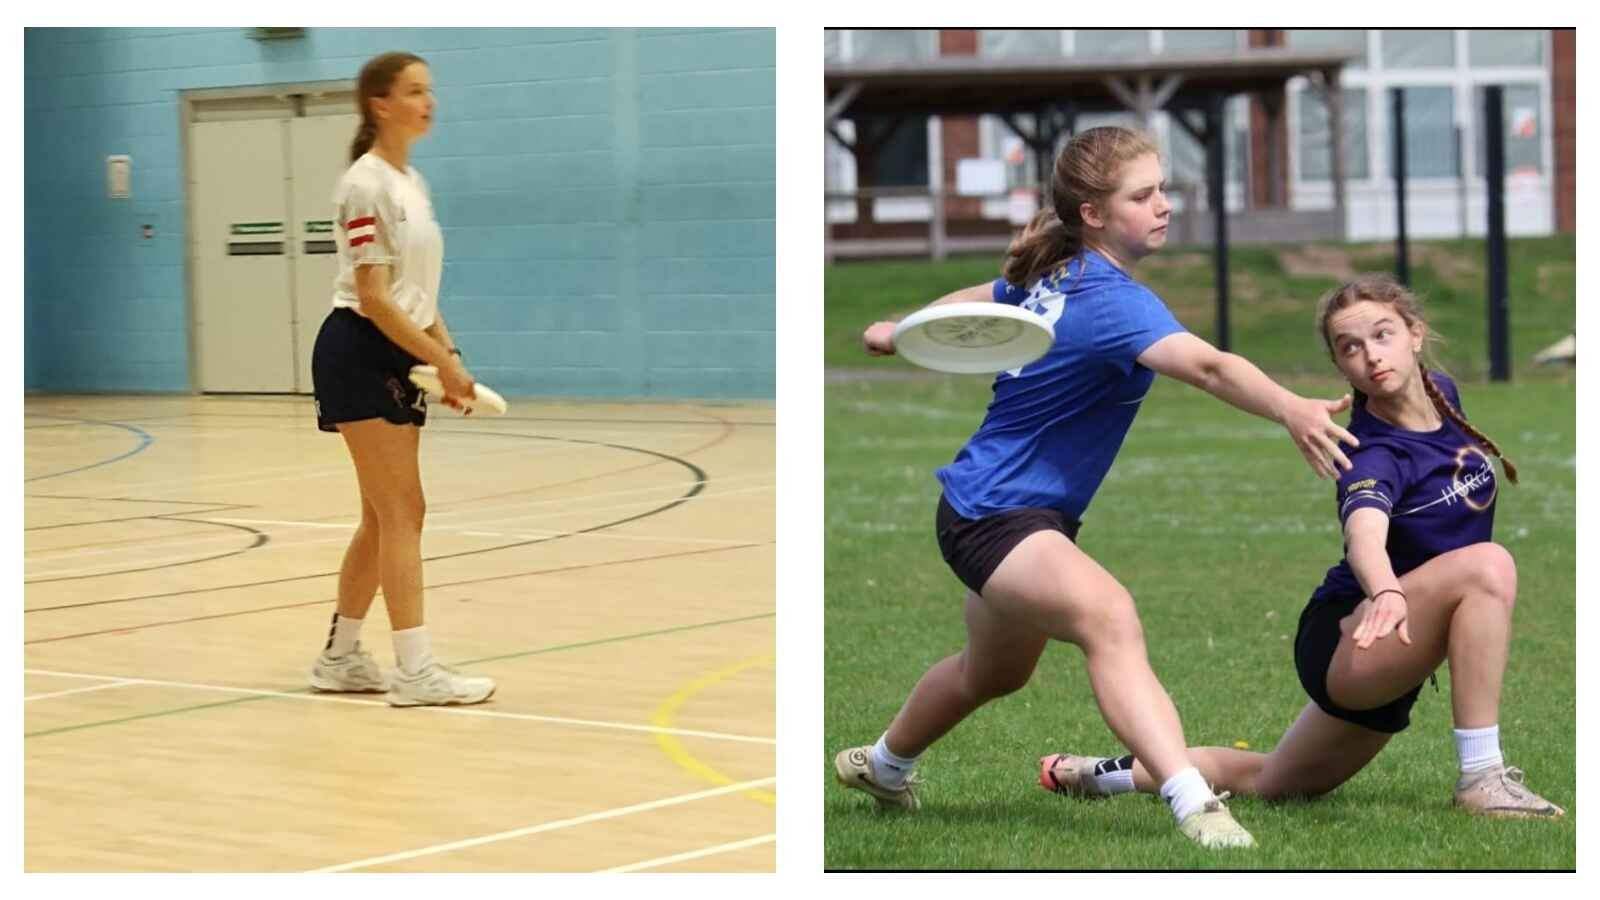disc: (888, 303, 1062, 378), (412, 355, 513, 424)
